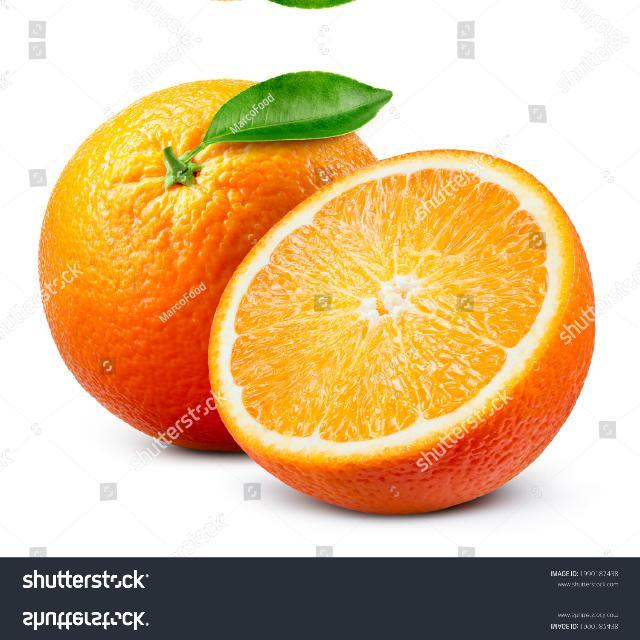Orange: (36, 76, 379, 453)
